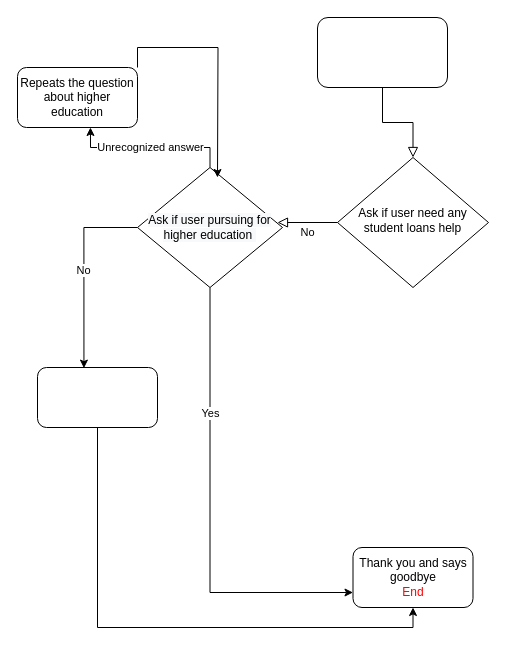
Some shapes in this 506 by 653 pixel diagram are drawn without their labels. The shapes that lost their labels are listed below. From the top down, each one's centre as x and y in pixels, then its label:
At (x=382, y=52): "Start Mr. Student Loan introduces himself and ask for a name".
At (x=97, y=397): "Remind user that there are higher education student loans help".
